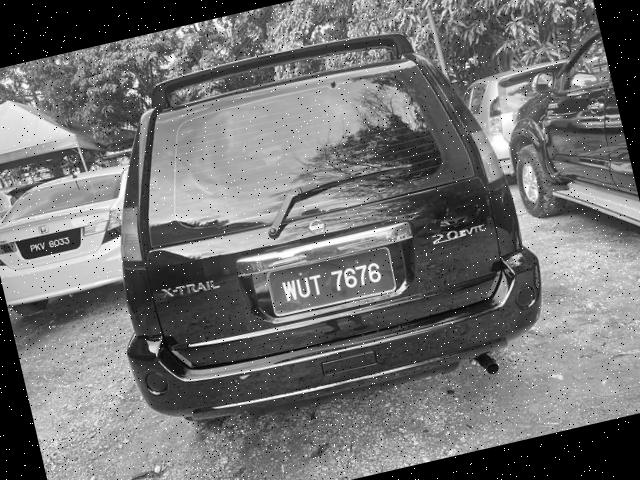License_Plate: (271, 248, 393, 317), (19, 228, 82, 264)
car: (72, 1, 566, 460)
